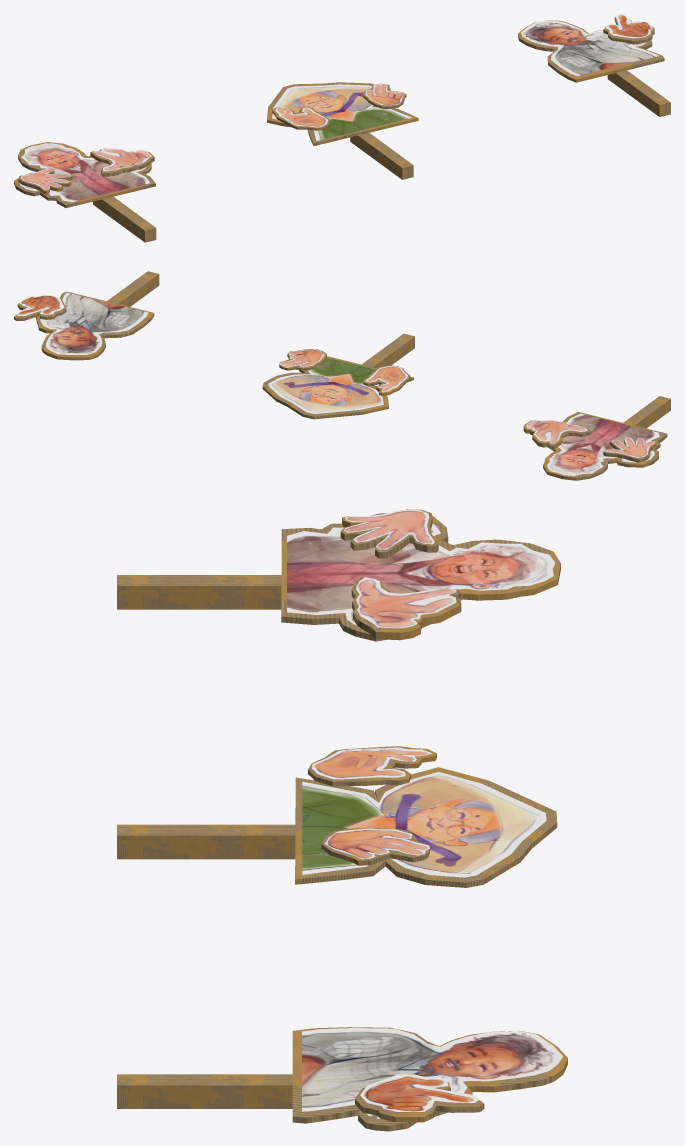
Rendered from GameJam Chars2.fbx.
3 views of the same model, one above another, from view 1: azimuth 30°, elevation 25°; view 2: azimuth 150°, elevation 25°; view 3: azimuth 270°, elevation 25° (orthographic). The views are drawn at different scales.
Visible parts, largest first — view 1: aunty1nohands.014, aunty1nohands.003, aunty1nohands.016; view 2: aunty1nohands.003, aunty1nohands.014, aunty1nohands.016; view 3: aunty1nohands.003, aunty1nohands.014, aunty1nohands.016.
Part boxes in pixels (box(x1,y1,x2,y2)): aunty1nohands.014: box(14, 142, 156, 242); aunty1nohands.003: box(267, 82, 418, 179); aunty1nohands.016: box(518, 14, 670, 116); aunty1nohands.003: box(262, 333, 414, 419); aunty1nohands.014: box(523, 396, 670, 480); aunty1nohands.016: box(14, 271, 159, 360); aunty1nohands.003: box(117, 746, 557, 887); aunty1nohands.014: box(117, 509, 560, 641); aunty1nohands.016: box(117, 1027, 567, 1131).
Bounding box in the file's own units: 494 × 19.01 × 153.
Materials: 11 (11 with a texture image).
